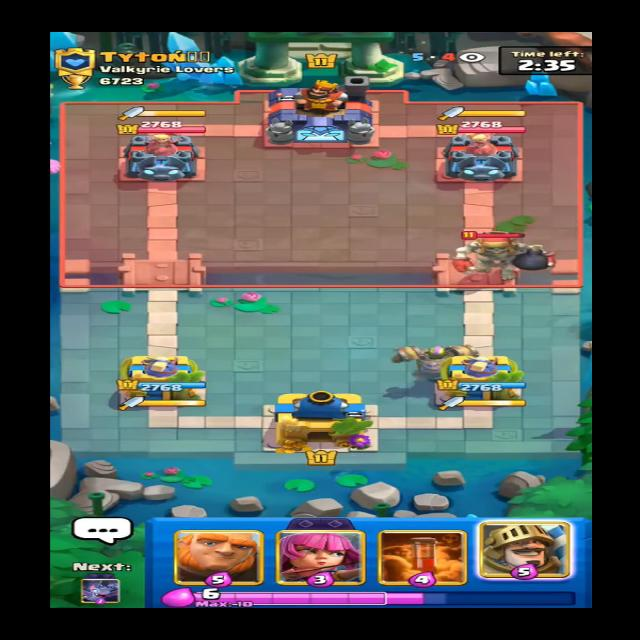Giantskeleton: (449, 222, 566, 278)
